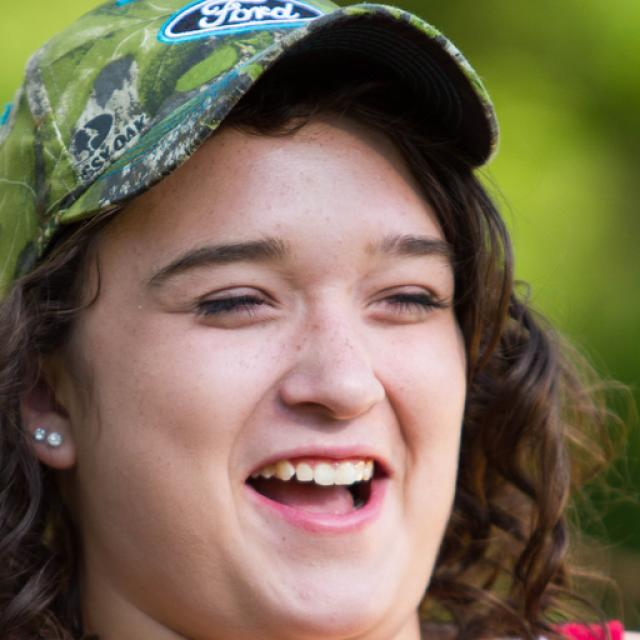happy: (78, 104, 472, 634)
